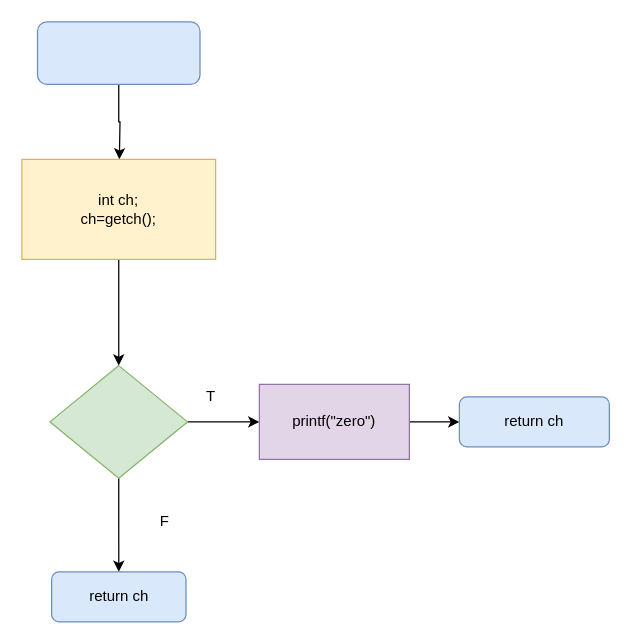
Some shapes in this 631 by 644 pixel diagram are drawn without their labels. Here are the shapes that lost their labels. From the top down, the box of each, then its label:
(36, 21, 200, 84): getkey()
(49, 364, 188, 478): if(ch==0)
